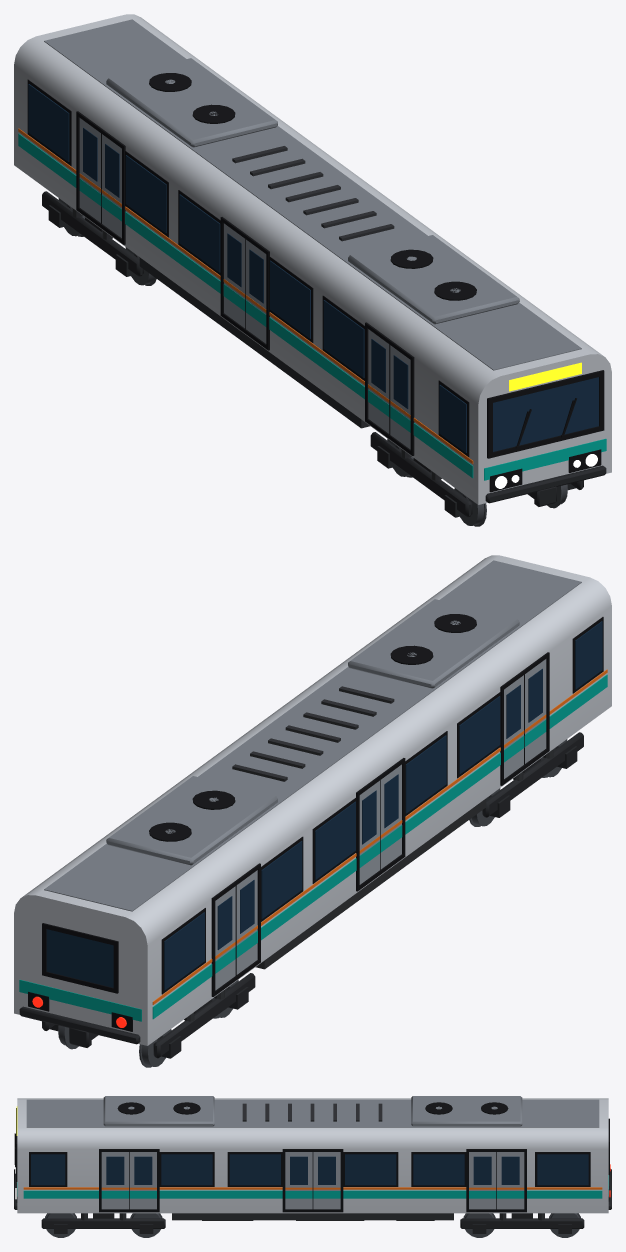
Rendered from train_urban.glb.
The picture shows the model from 3 angles, top to bottom: view 1: azimuth 30°, elevation 25°; view 2: azimuth 150°, elevation 25°; view 3: azimuth 270°, elevation 25°; orthographic projection. The views are drawn at different scales.
Visible parts, largest first — view 1: Train_Body, Train_Roof_Equipment, Train_Bogie_Front, Train_Bogie_Rear, Train_Underframe; view 2: Train_Body, Train_Roof_Equipment, Train_Bogie_Rear, Train_Bogie_Front, Train_Underframe; view 3: Train_Body, Train_Roof_Equipment, Train_Bogie_Front, Train_Bogie_Rear, Train_Underframe.
Boxes of the visible parts, x1,y1,x2,y2 form: Train_Body: (14, 14, 611, 504); Train_Roof_Equipment: (106, 58, 519, 324); Train_Bogie_Front: (370, 432, 583, 526); Train_Bogie_Rear: (42, 191, 156, 285); Train_Underframe: (139, 257, 556, 506); Train_Body: (14, 555, 611, 1045); Train_Roof_Equipment: (106, 599, 519, 865); Train_Bogie_Rear: (42, 973, 255, 1067); Train_Bogie_Front: (469, 732, 583, 826); Train_Underframe: (69, 798, 486, 1047); Train_Body: (14, 1098, 611, 1213); Train_Roof_Equipment: (103, 1096, 522, 1126); Train_Bogie_Front: (41, 1213, 165, 1237); Train_Bogie_Rear: (460, 1213, 584, 1237); Train_Underframe: (172, 1213, 453, 1220).
Bounding box in the file's own units: 2.36 × 3.03 × 14.
